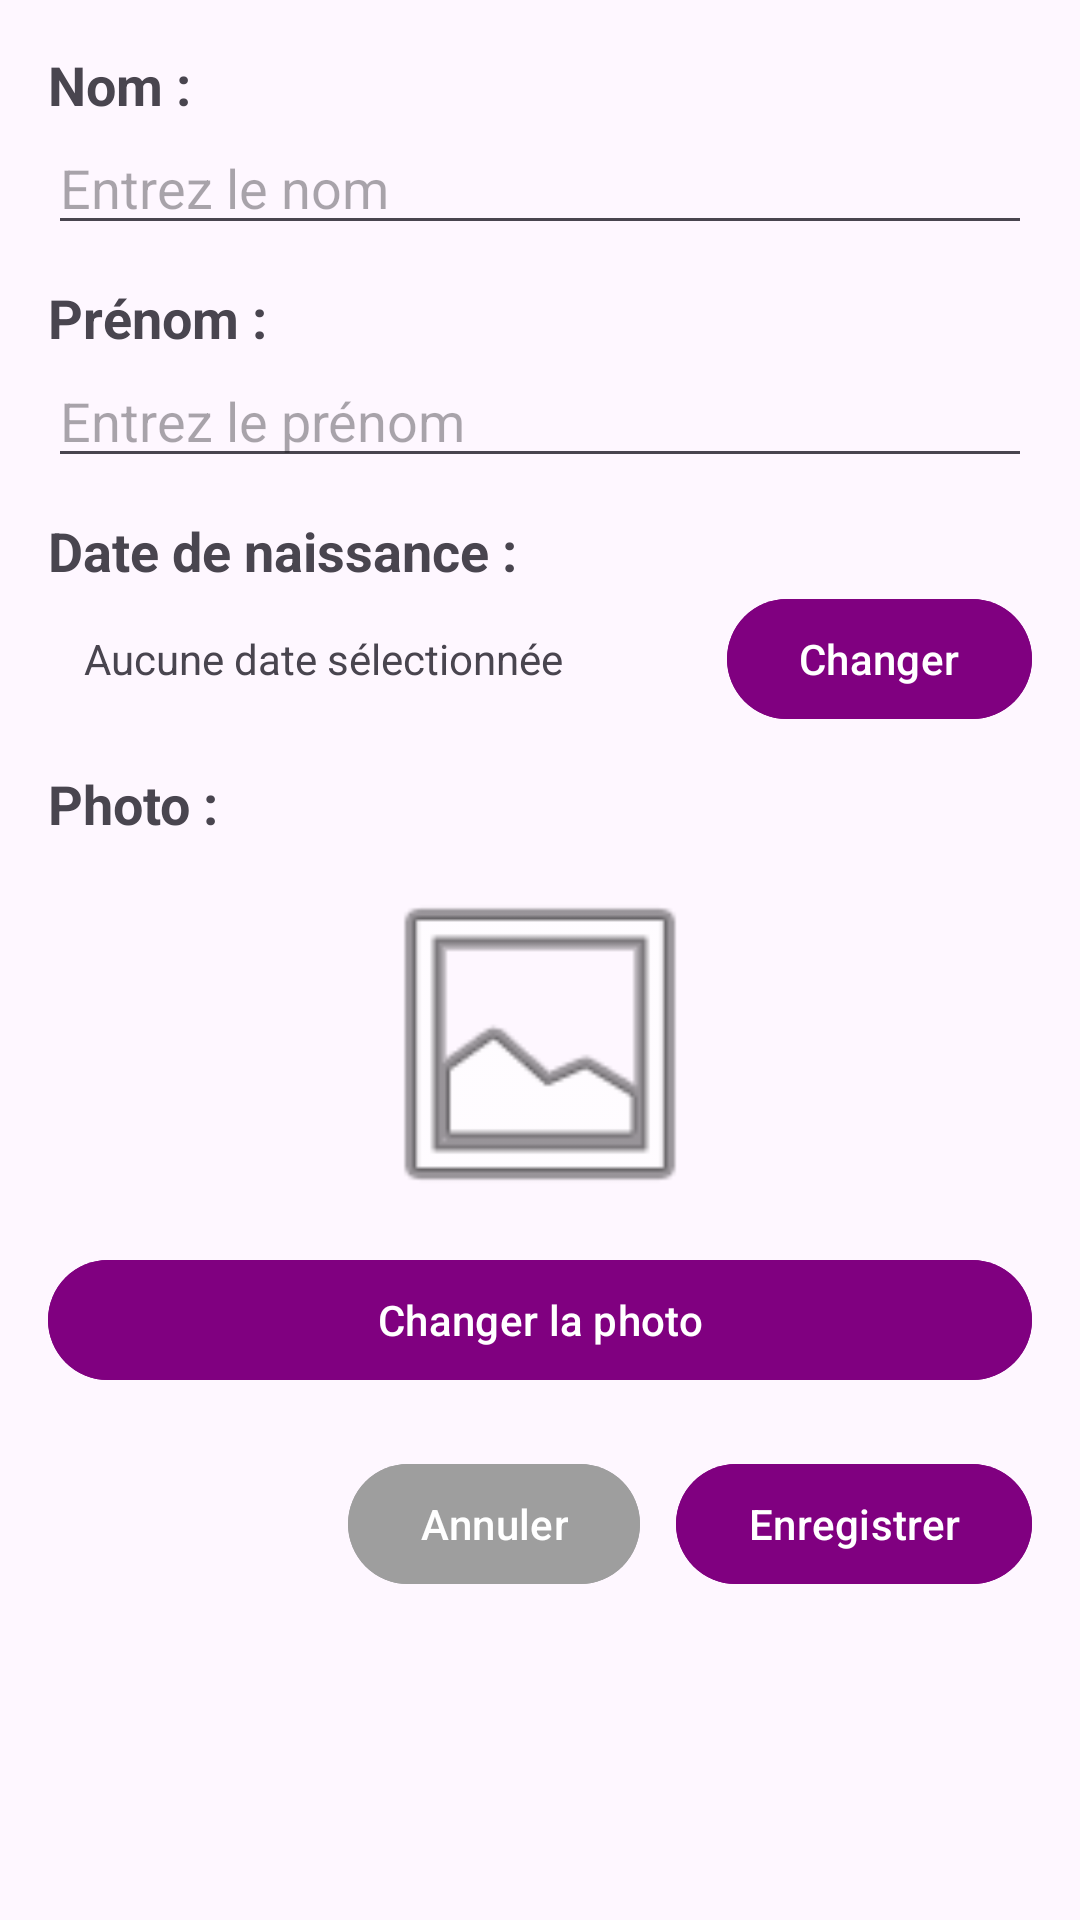

Named icons in this screenshot (1080*1920) and their bounding boxes, (x1, y1, x2, y2):
gallery: (404, 908, 676, 1180)
